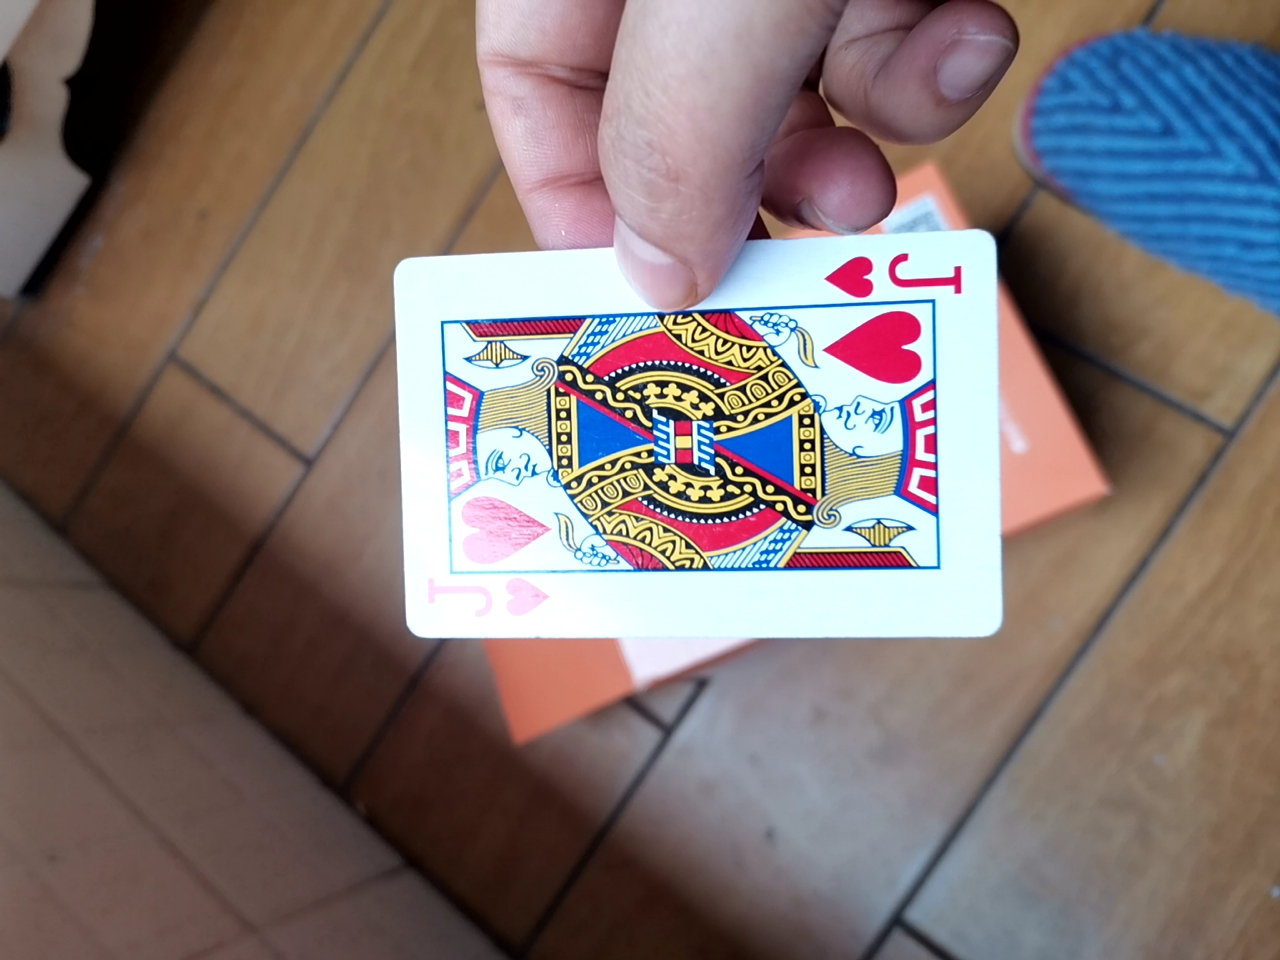hx j: (360, 207, 1038, 683)
